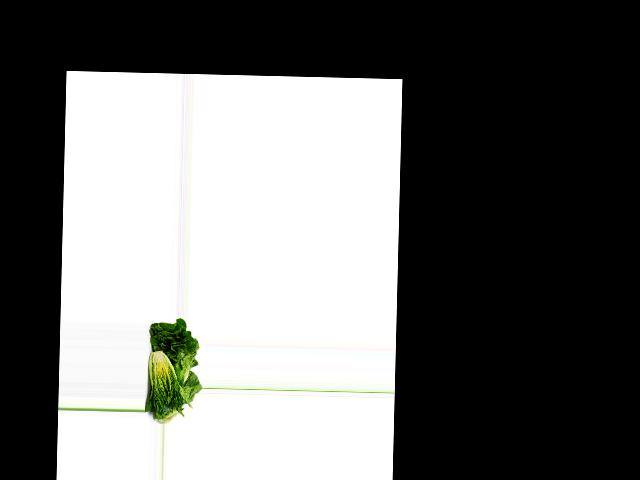lettuce: (144, 319, 199, 382)
